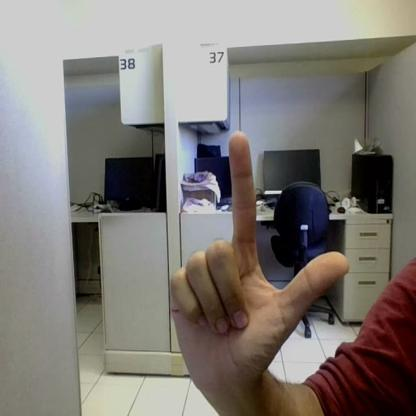L: (170, 131, 349, 385)
